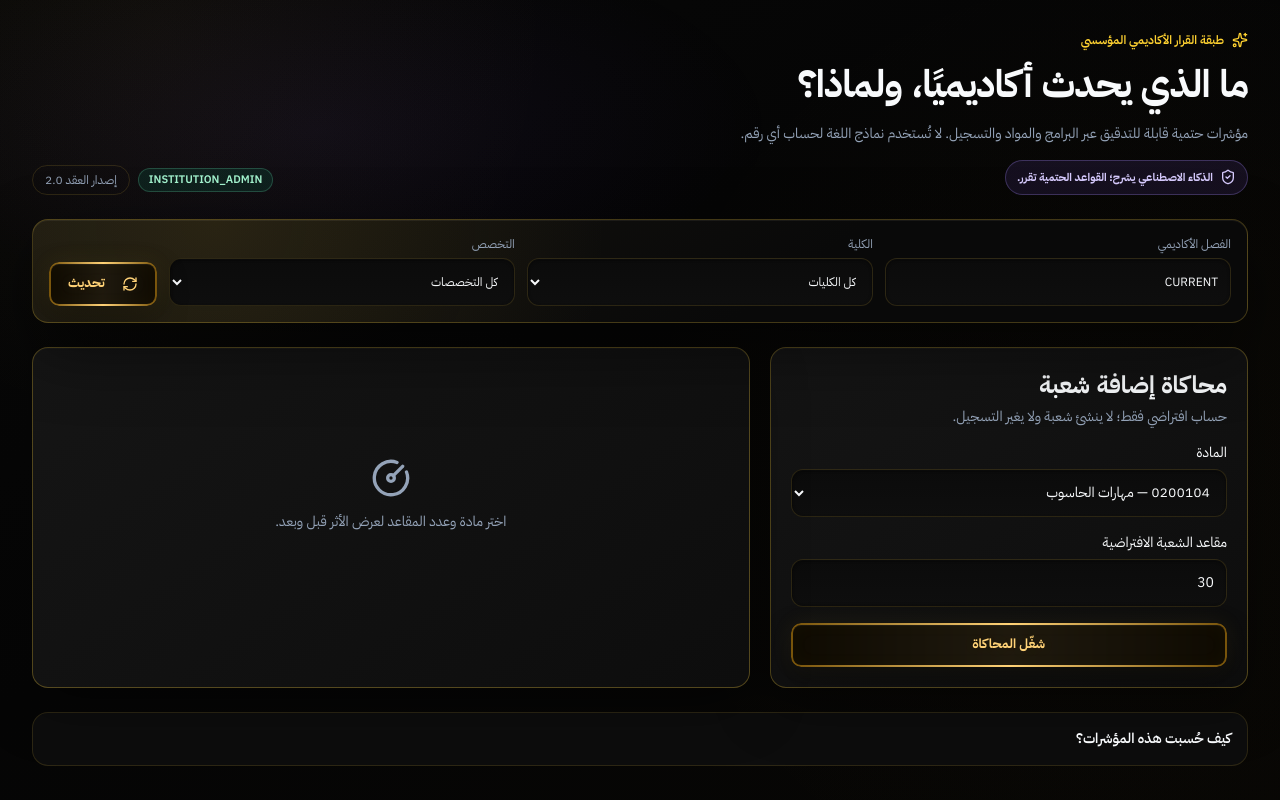
Test: what-if is visibly simulation-only and sends a bounded non-mutating request
Expected: the heading "محاكاة إضافة شعبة" is shown, 1039,371 -> 1227,398
What coordinates should you click on to do the following:
click the button "شغّل المحاكاة"
I would click on:
 (1009, 645)
Its box is 791,623 -> 1227,667.
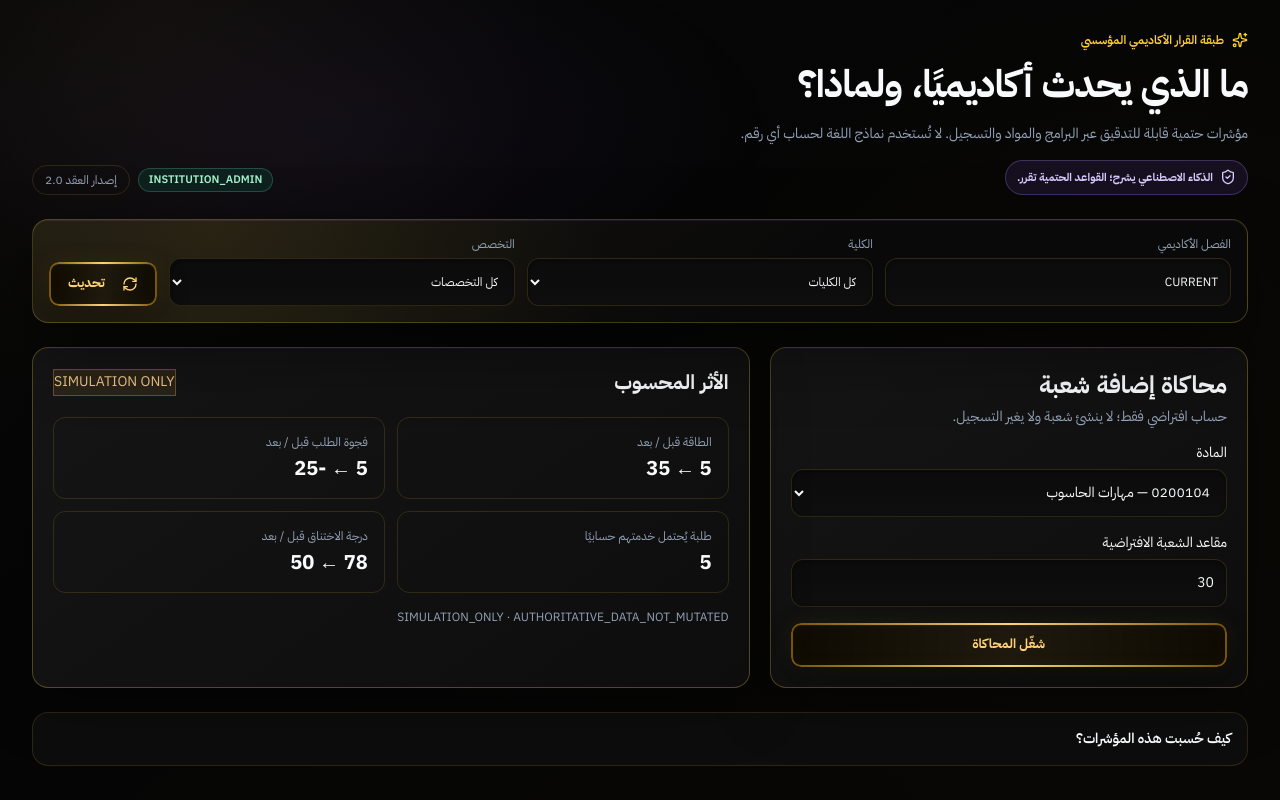
Result: the text "SIMULATION ONLY" is shown at 53,369 -> 176,396
Result: the text "SIMULATION_ONLY · AUTHORITATIVE_DATA_NOT_MUTATED" is shown at 397,608 -> 729,626
